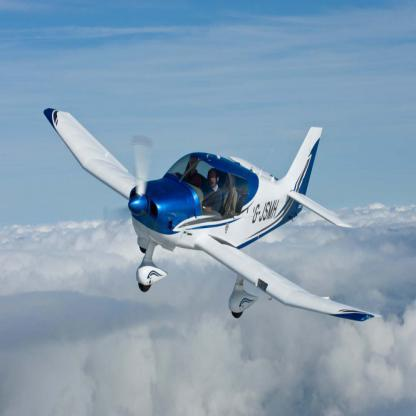CIV_Plane: (42, 106, 382, 324)
